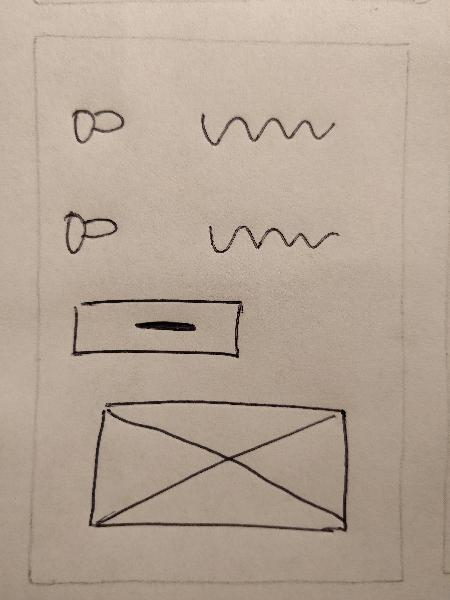button: (63, 290, 246, 370)
image: (82, 388, 360, 546)
switch: (56, 201, 119, 263), (62, 95, 134, 148)
text: (192, 102, 345, 157), (200, 209, 343, 264)
